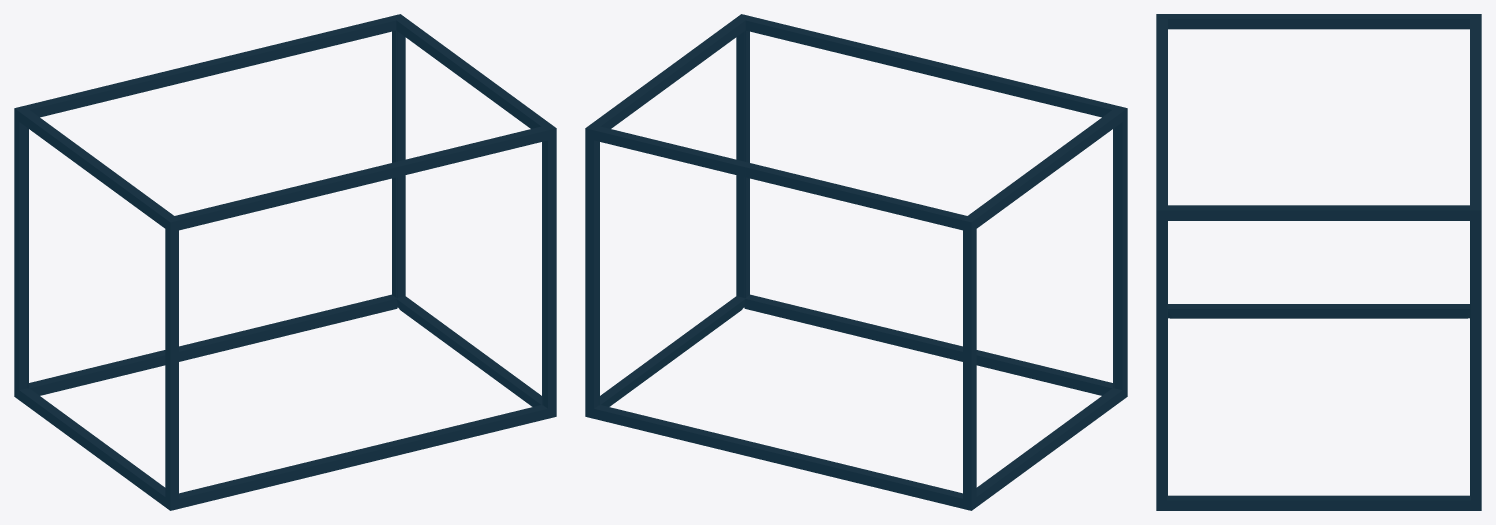
Rendered from task.gltf.
3 views of the same model, side by side, from view 1: azimuth 30°, elevation 25°; view 2: azimuth 150°, elevation 25°; view 3: azimuth 270°, elevation 25° (orthographic). The views are drawn at different scales.
Visible parts, largest first — view 1: Plane.012; view 2: Plane.012; view 3: Plane.012.
Boxes of the visible parts, x1,y1,x2,y2 form: Plane.012: (14, 14, 556, 510); Plane.012: (585, 14, 1127, 510); Plane.012: (1156, 14, 1481, 510).
Bounding box in the file's own units: 3.4 × 2.43 × 2.38.
